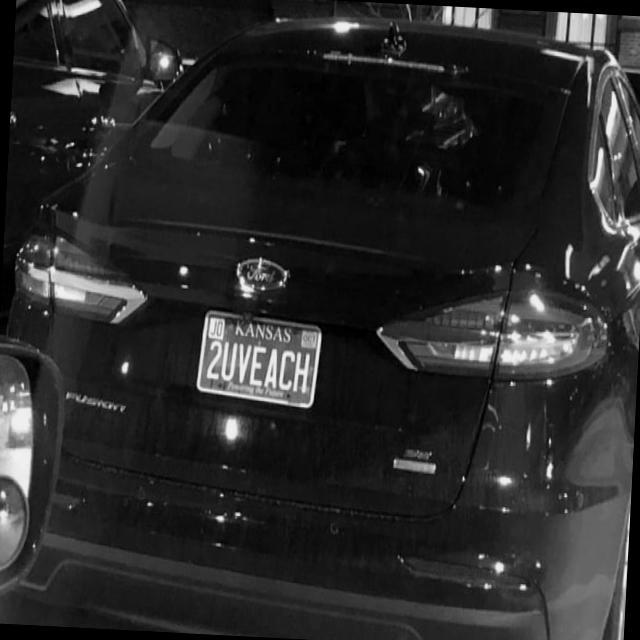LicensePlate: (195, 309, 323, 408)
